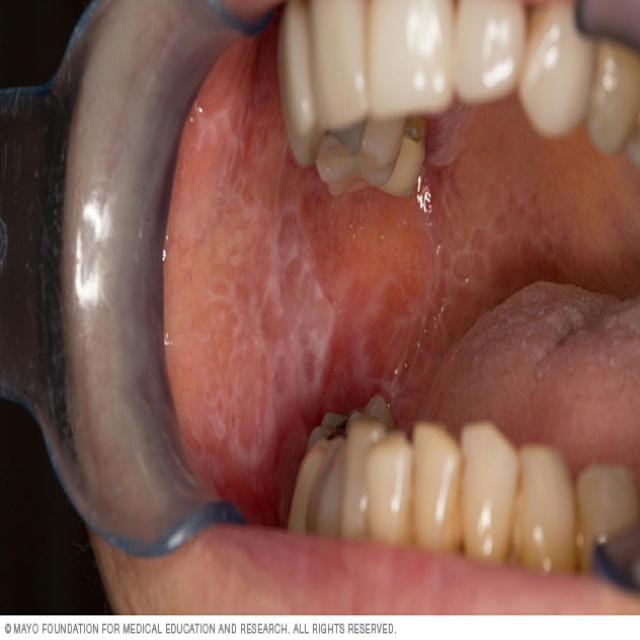leukoplakia-like-detection: (163, 54, 348, 528)
processing_area: (163, 17, 639, 530)
